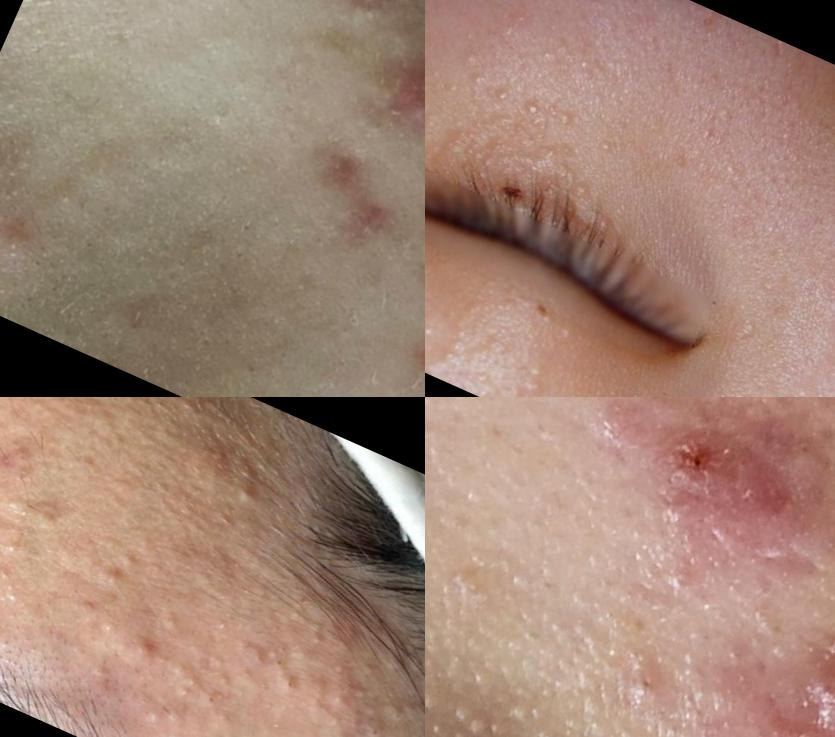acne_scars: (291, 130, 426, 270)
blackhead: (381, 698, 426, 732), (272, 670, 308, 705), (349, 715, 405, 737)
milium: (434, 35, 617, 154), (426, 293, 603, 398), (432, 98, 563, 189), (502, 127, 626, 212), (426, 92, 487, 198), (693, 89, 758, 160), (718, 300, 783, 353), (546, 307, 604, 361)
papular: (592, 398, 835, 584), (612, 631, 683, 710), (378, 42, 426, 140), (398, 333, 426, 398)
purulent: (759, 701, 833, 737)
sebo-crystan-conglo: (783, 619, 835, 737)
whitehead: (268, 598, 346, 661), (195, 79, 264, 144), (131, 686, 198, 737), (164, 659, 217, 710), (205, 606, 254, 648), (157, 601, 202, 642), (343, 1, 388, 35), (98, 613, 132, 649), (227, 478, 264, 511), (96, 564, 130, 597), (9, 441, 43, 473), (1, 580, 31, 615), (246, 642, 279, 673), (1, 532, 27, 566), (11, 463, 41, 492), (323, 682, 350, 708), (351, 662, 378, 687), (326, 711, 348, 735)
